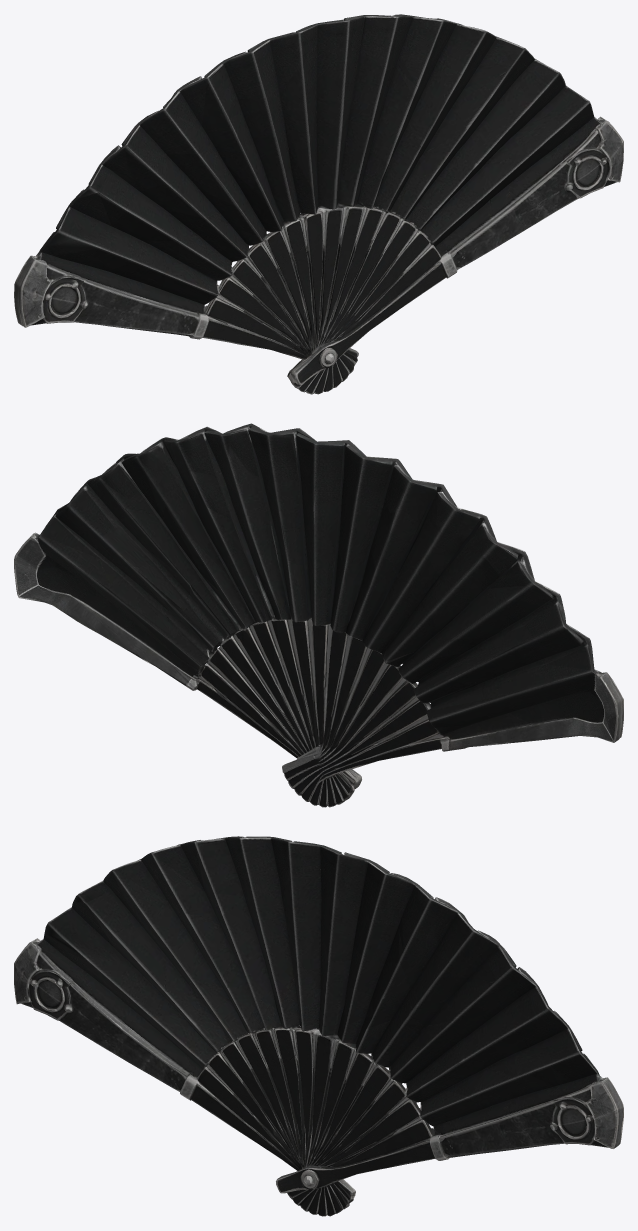
The model's file is fan.glb.
The picture shows the model from 3 angles, top to bottom: view 1: azimuth 30°, elevation 25°; view 2: azimuth 150°, elevation 25°; view 3: azimuth 330°, elevation 25°; orthographic projection.
Visible parts, largest first — view 1: output_unwrapped; view 2: output_unwrapped; view 3: output_unwrapped.
Part boxes in pixels (x1,y1,x2,y2): output_unwrapped: (14,14,623,394); output_unwrapped: (14,423,623,807); output_unwrapped: (14,836,623,1216).
Bounding box in the file's own units: 1.9 × 1.11 × 0.0922.
Materials: 1 (1 with a texture image).
